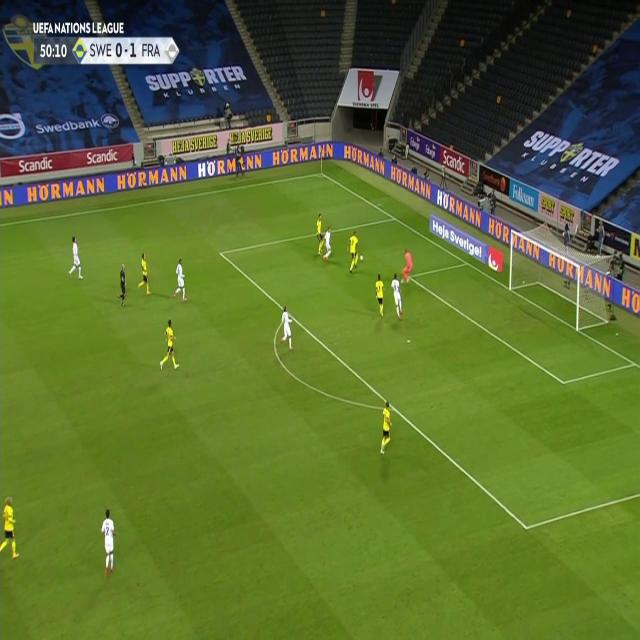ball: (360, 254, 364, 262)
player: (0, 492, 20, 562), (100, 508, 118, 578), (159, 318, 181, 372), (378, 399, 394, 455), (276, 305, 294, 351), (389, 271, 404, 321), (68, 236, 84, 280), (136, 251, 152, 294), (347, 229, 361, 273), (173, 258, 187, 302), (374, 273, 386, 318), (314, 212, 326, 256), (400, 247, 414, 283), (117, 262, 127, 308), (321, 227, 334, 260)
